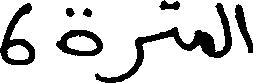X: (57, 3, 100, 82), (0, 0, 31, 69), (102, 32, 143, 82), (237, 0, 252, 57), (219, 0, 229, 62), (198, 25, 212, 61), (172, 0, 178, 49)
